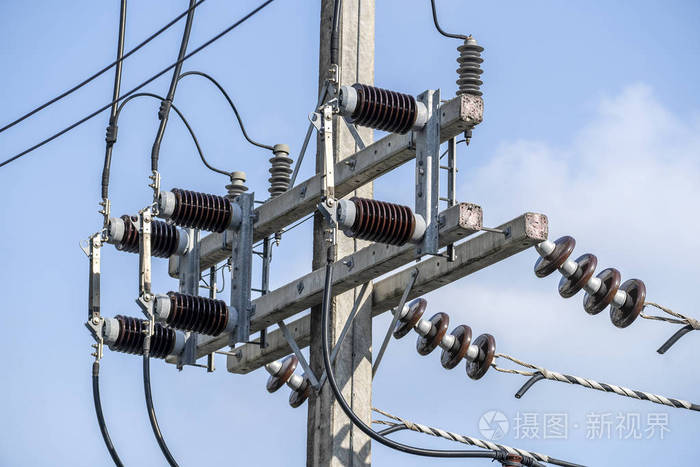insulator: (532, 233, 649, 328), (396, 297, 498, 381), (266, 354, 315, 413)
